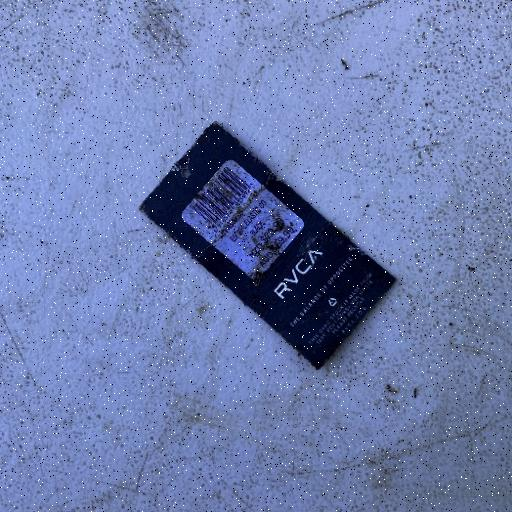Cardboard: (136, 120, 398, 372), (179, 158, 305, 286)
